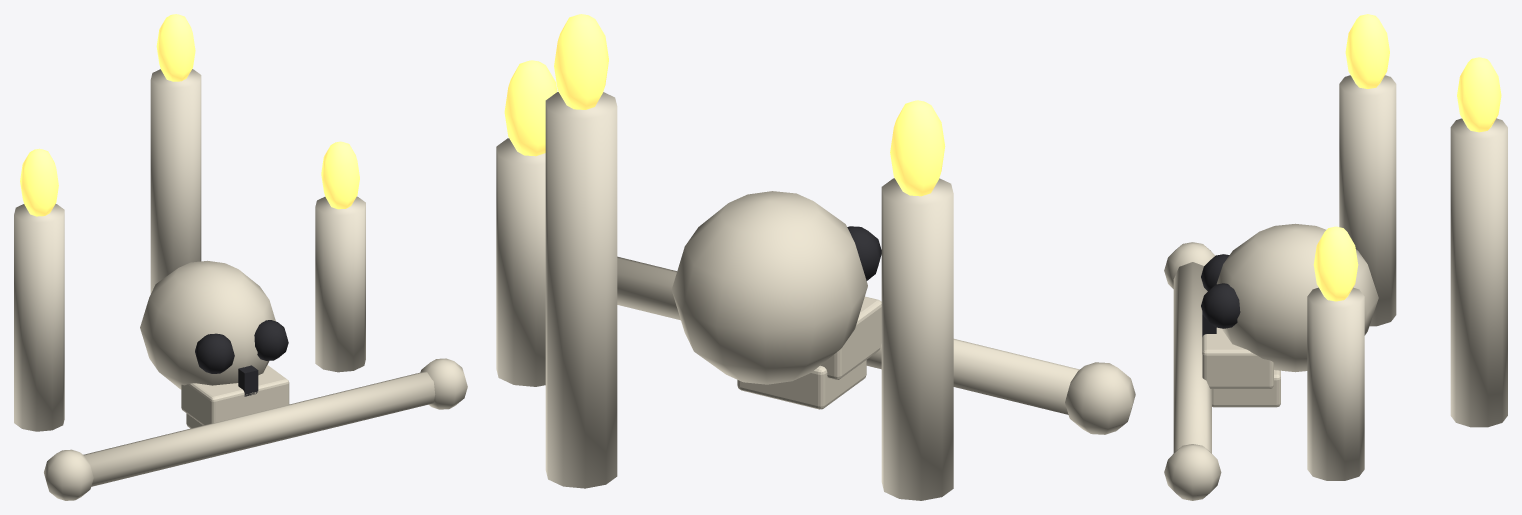
Rendered from candle_group_bone_cluster.glb.
The picture shows the model from 3 angles, left to right: view 1: azimuth 30°, elevation 25°; view 2: azimuth 150°, elevation 25°; view 3: azimuth 270°, elevation 25°; orthographic projection. The views are drawn at different scales.
Parts seen in each view (by area): view 1: GD_candle_group_bone_cluster__m0, GD_candle_group_bone_cluster__m2, GD_candle_group_bone_cluster__m1, GD_candle_group_bone_cluster__m3; view 2: GD_candle_group_bone_cluster__m2, GD_candle_group_bone_cluster__m0, GD_candle_group_bone_cluster__m1, GD_candle_group_bone_cluster__m3; view 3: GD_candle_group_bone_cluster__m2, GD_candle_group_bone_cluster__m0, GD_candle_group_bone_cluster__m1, GD_candle_group_bone_cluster__m3.
Part boxes in pixels (x1=…): GD_candle_group_bone_cluster__m0: x1=44, y1=260, x2=467, y2=500; GD_candle_group_bone_cluster__m2: x1=14, y1=69, x2=365, y2=431; GD_candle_group_bone_cluster__m1: x1=20, y1=14, x2=359, y2=216; GD_candle_group_bone_cluster__m3: x1=195, y1=320, x2=288, y2=396; GD_candle_group_bone_cluster__m2: x1=496, y1=92, x2=953, y2=500; GD_candle_group_bone_cluster__m0: x1=617, y1=191, x2=1135, y2=434; GD_candle_group_bone_cluster__m1: x1=504, y1=14, x2=945, y2=196; GD_candle_group_bone_cluster__m3: x1=847, y1=226, x2=881, y2=280; GD_candle_group_bone_cluster__m2: x1=1307, y1=75, x2=1507, y2=480; GD_candle_group_bone_cluster__m0: x1=1164, y1=223, x2=1378, y2=500; GD_candle_group_bone_cluster__m1: x1=1313, y1=14, x2=1501, y2=301; GD_candle_group_bone_cluster__m3: x1=1201, y1=254, x2=1240, y2=336.
Size of the model in its own units: 0.336 by 0.2546 by 0.216.
